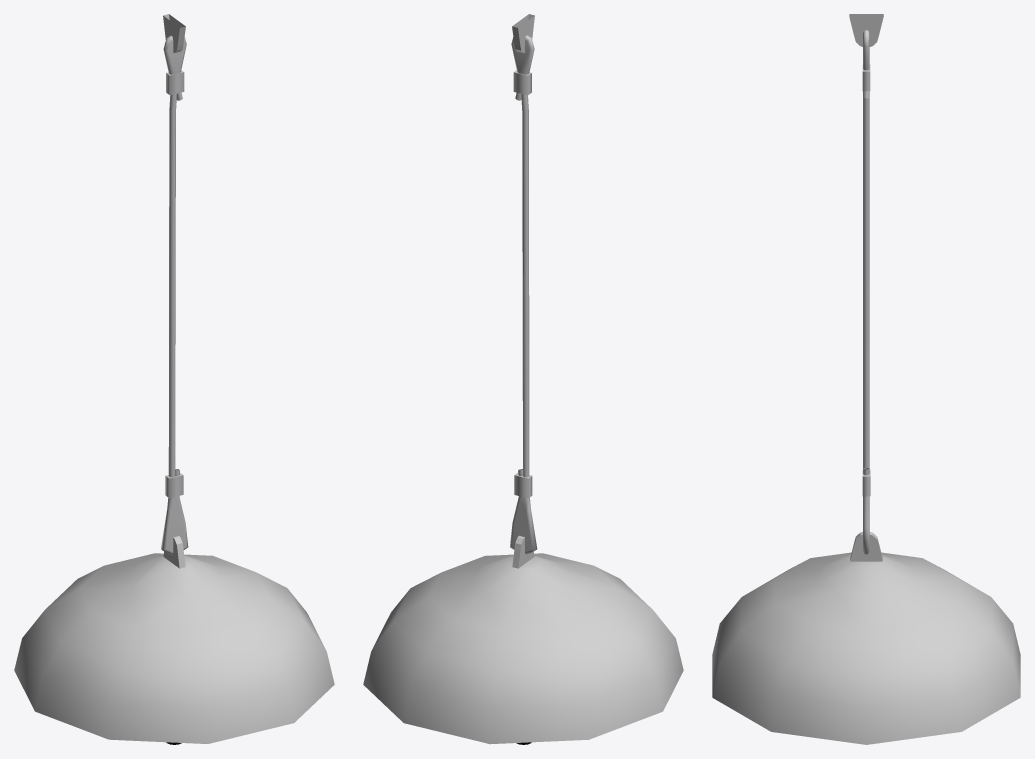
Rendered from engineroom_lamp_01.dae.
3 views of the same model, side by side, from view 1: azimuth 30°, elevation 25°; view 2: azimuth 150°, elevation 25°; view 3: azimuth 270°, elevation 25° (orthographic).
Visible parts, largest first — view 1: polySurface113; view 2: polySurface113; view 3: polySurface113.
Boxes of the visible parts, x1=… form: polySurface113: x1=14, y1=14, x2=334, y2=743; polySurface113: x1=363, y1=14, x2=683, y2=744; polySurface113: x1=712, y1=14, x2=1020, y2=744.
Size of the model in its own units: 192 by 475 by 183.
